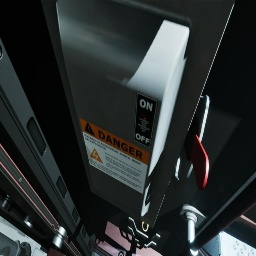SafetySwitchPanel ,: (41, 0, 236, 232)
